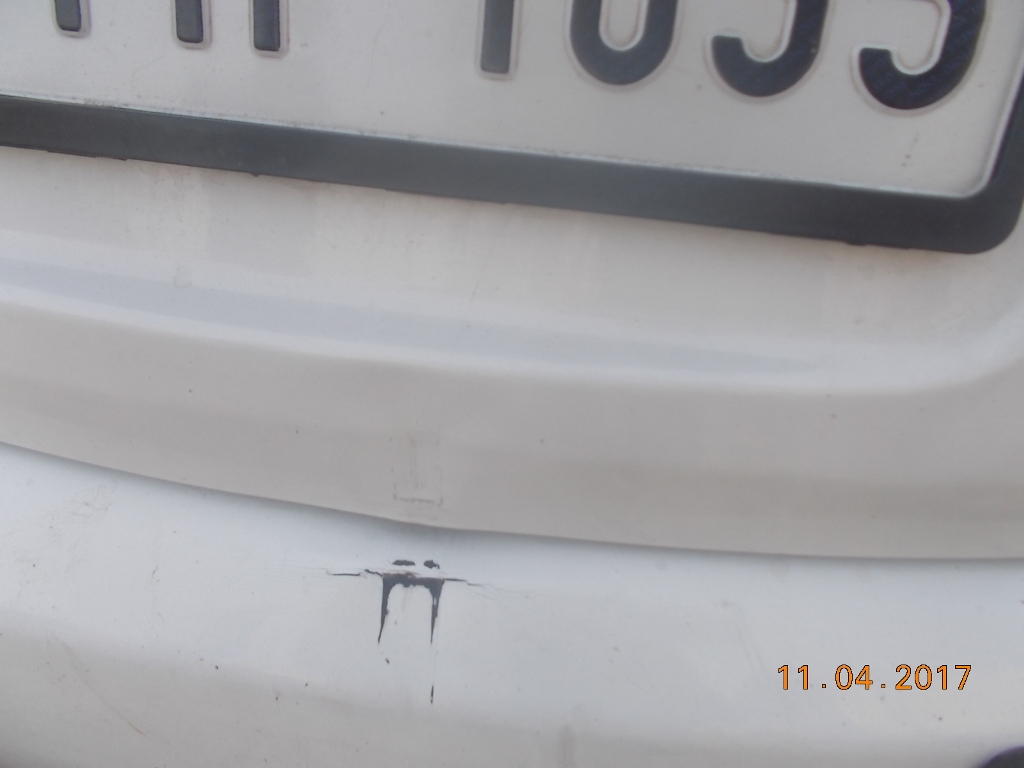Scratch_or_spot: (366, 551, 456, 652)
